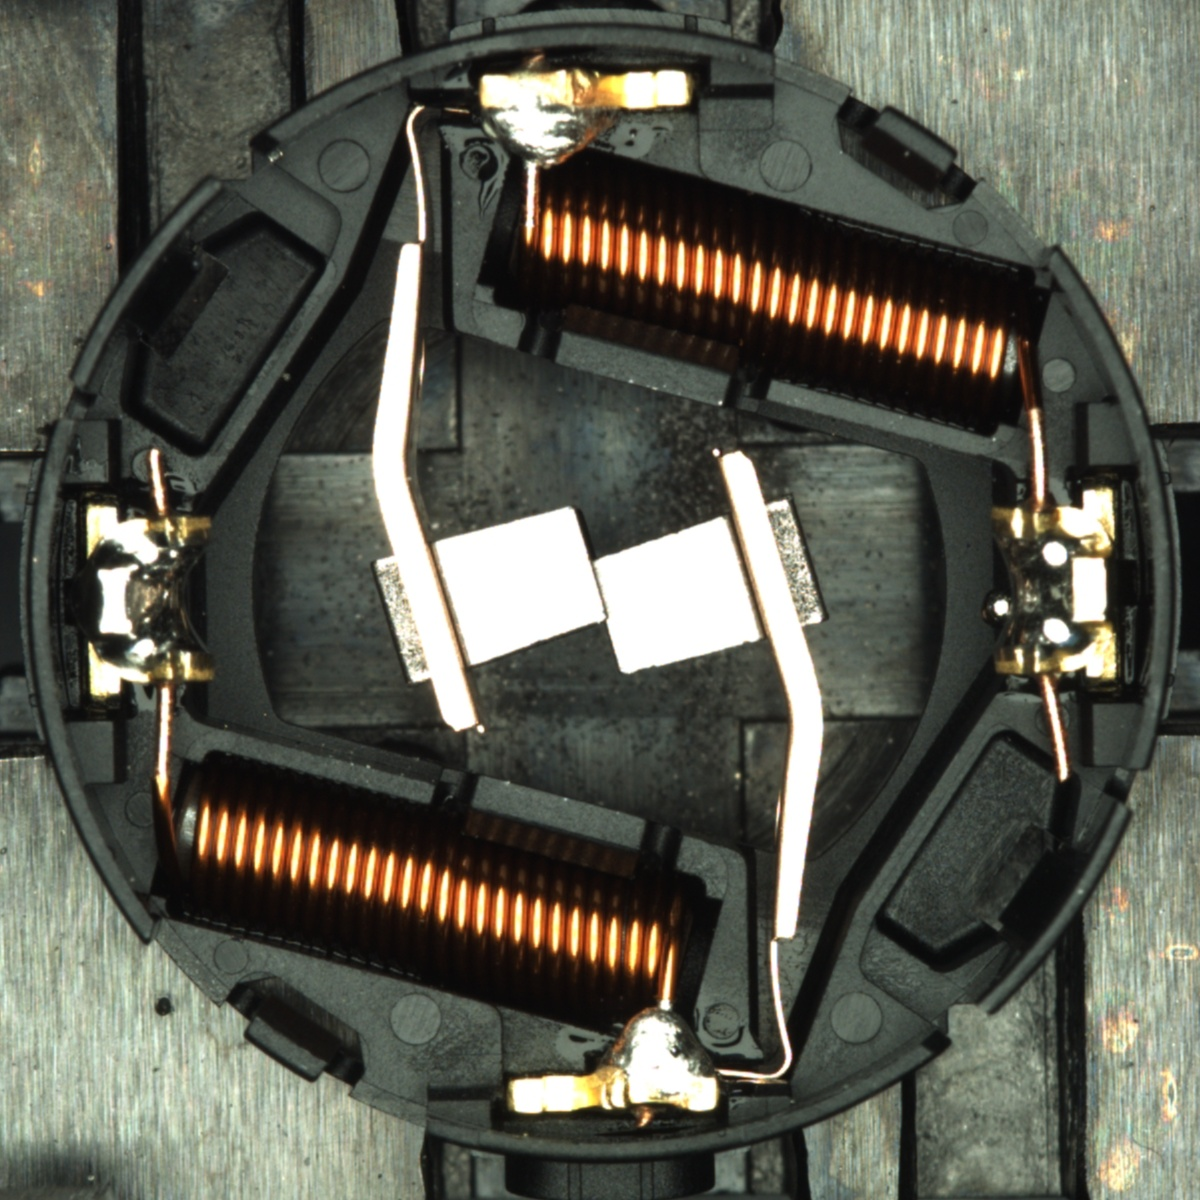1: (252, 29, 481, 254), (710, 926, 940, 1151)
2: (710, 29, 940, 254), (252, 926, 481, 1151)
3: (22, 254, 252, 478), (940, 702, 1168, 926)
4: (252, 254, 481, 478), (710, 702, 940, 926)
5: (481, 141, 710, 366), (481, 814, 710, 1038)
6: (710, 254, 940, 478), (252, 702, 481, 926)
7: (22, 702, 252, 926), (940, 254, 1168, 478)
cacbon: (395, 496, 796, 684)
chau_dien: (80, 497, 220, 699), (984, 485, 1122, 686)
hat_chi: (981, 590, 1016, 627)
tay_choi: (508, 1005, 721, 1115), (477, 69, 695, 173)
thanh_de: (953, 787, 1141, 1031), (57, 164, 243, 405)
